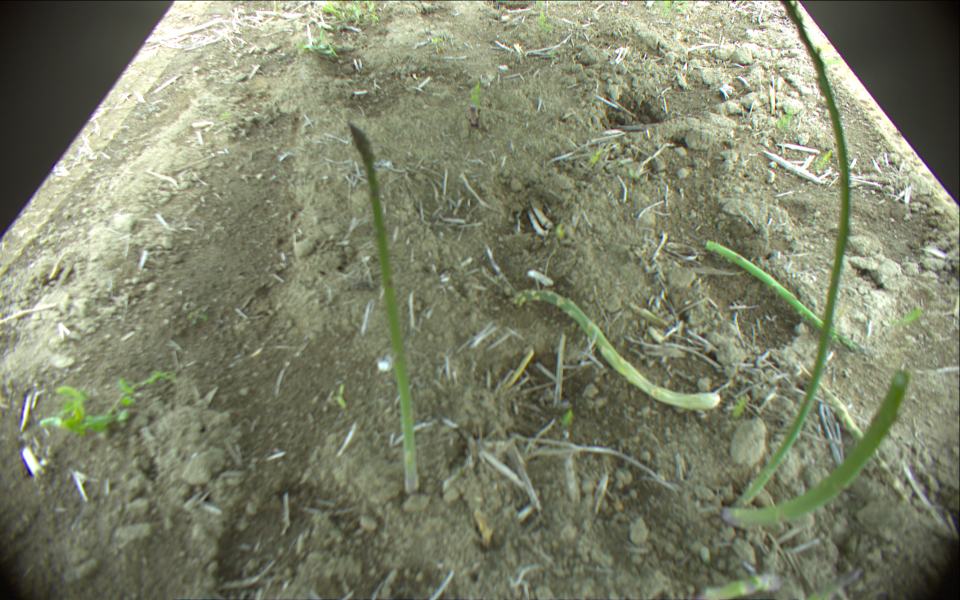aspa: (737, 1, 853, 509), (723, 369, 907, 530), (348, 120, 421, 490), (514, 293, 726, 409), (706, 239, 846, 344), (692, 576, 784, 598), (808, 567, 863, 600)
